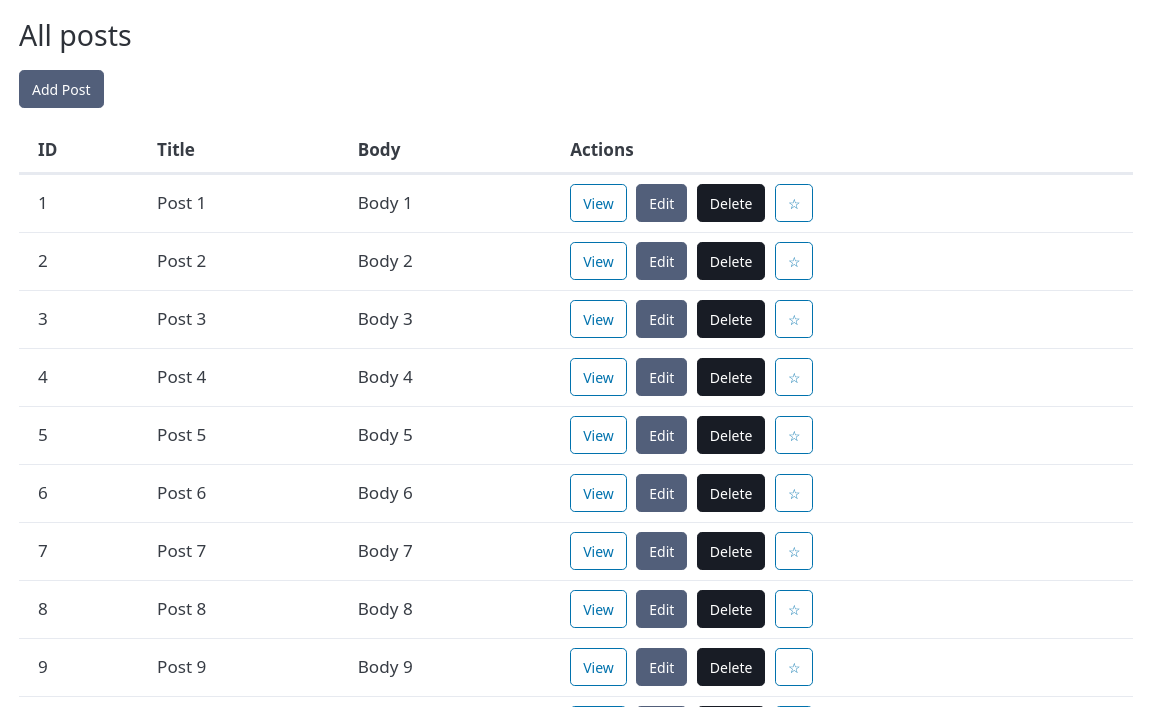
Test: PostsPage Component › Post Actions › delete post removes it from the table on All Posts
Check: the text "Post 1" is shown, box [138,175,339,232]
Step 1. Click the 1st button "Delete" → (731, 203), box [697,184,765,222]
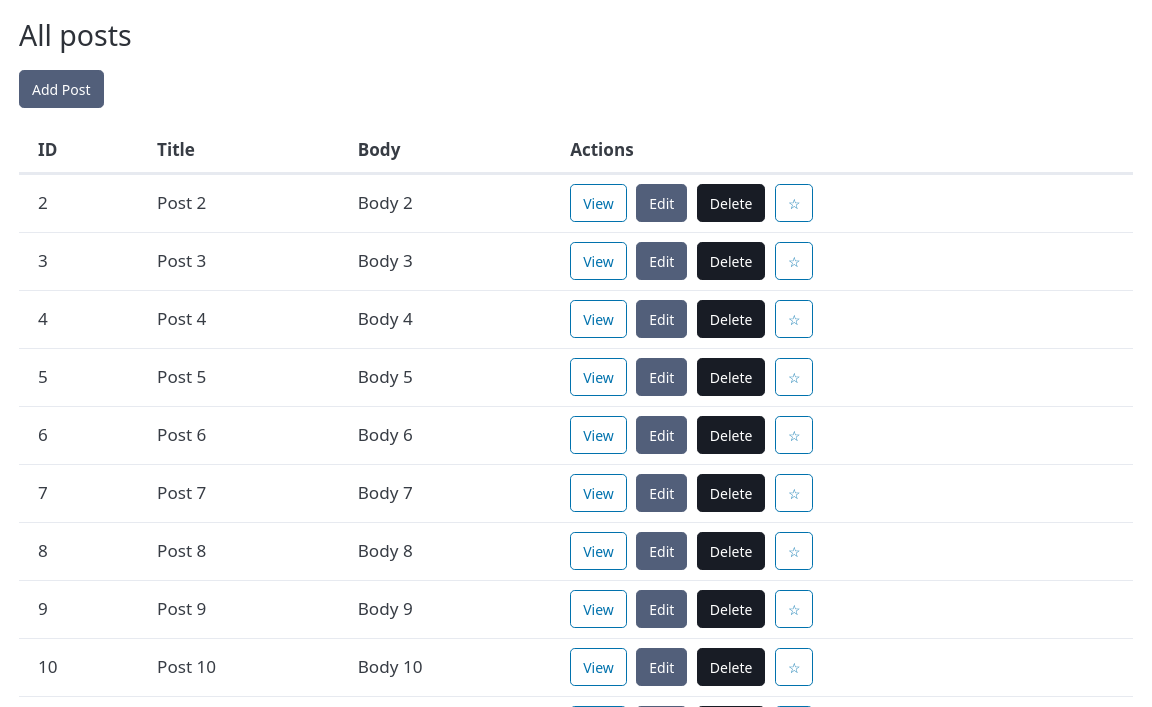
Check: the text "Post 2" is shown, box [138,175,339,232]
